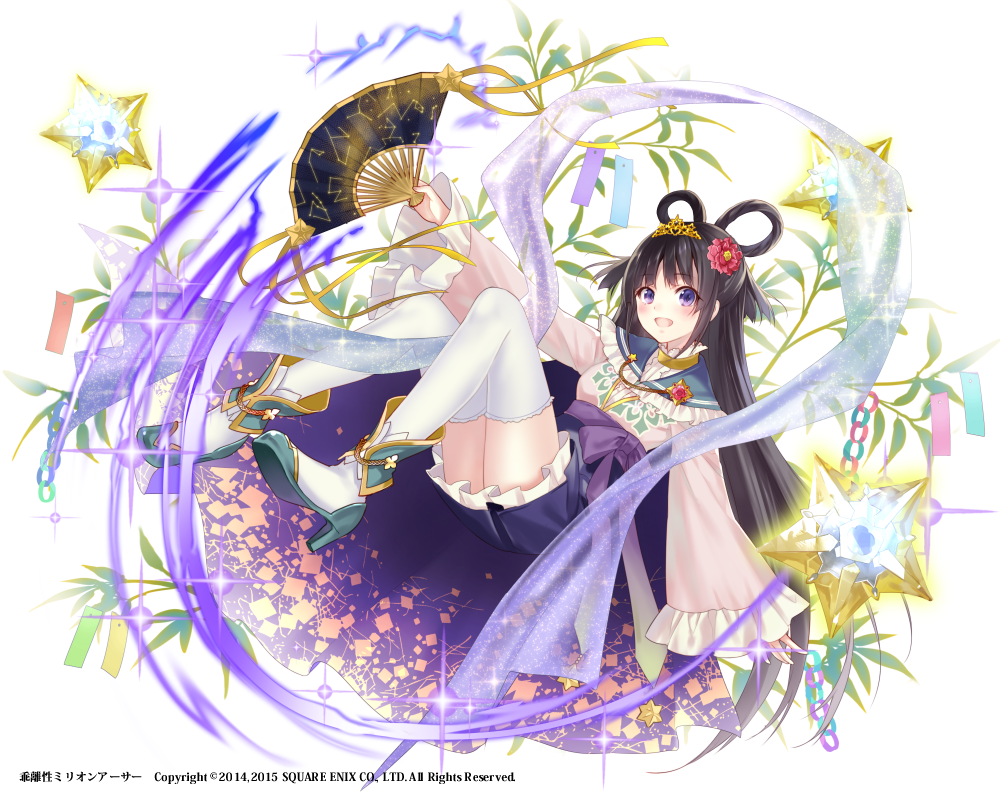纸片人正脸: (613, 208, 752, 354)
